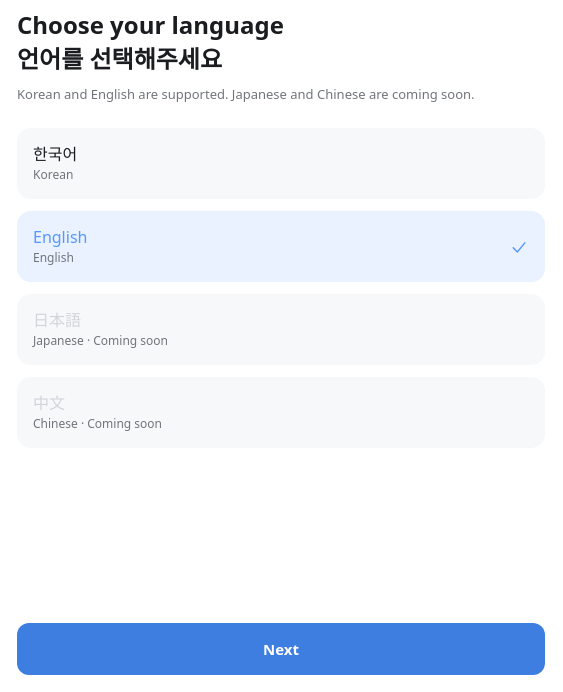
FE-101-T1 A-2 language selection (FCR-001 trace) › marks the active locale and switches copy when another is chosen
The width and height of the screenshot is (563, 692).
Click the button "한국어 Korean": [55, 154] box top-left (17, 128), bottom-right (545, 199)
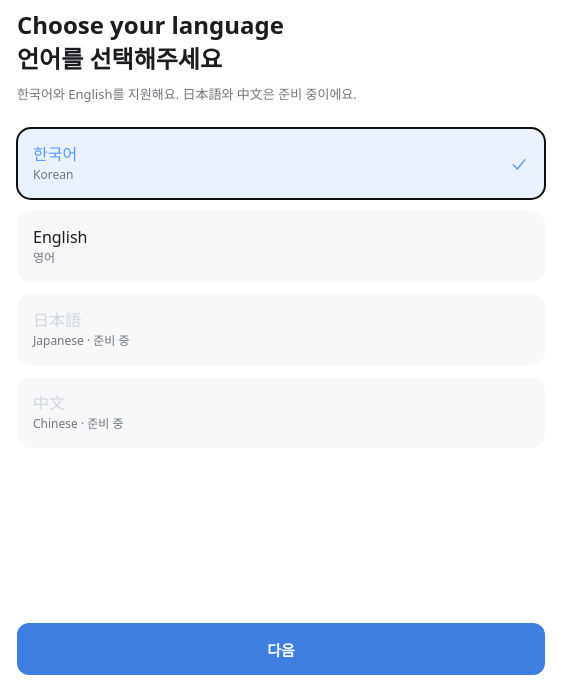
Expected: the text "한국어와 English를 지원해요. 日本語와 中文은 준비 중이에요." is shown, top-left (17, 85), bottom-right (357, 103)
